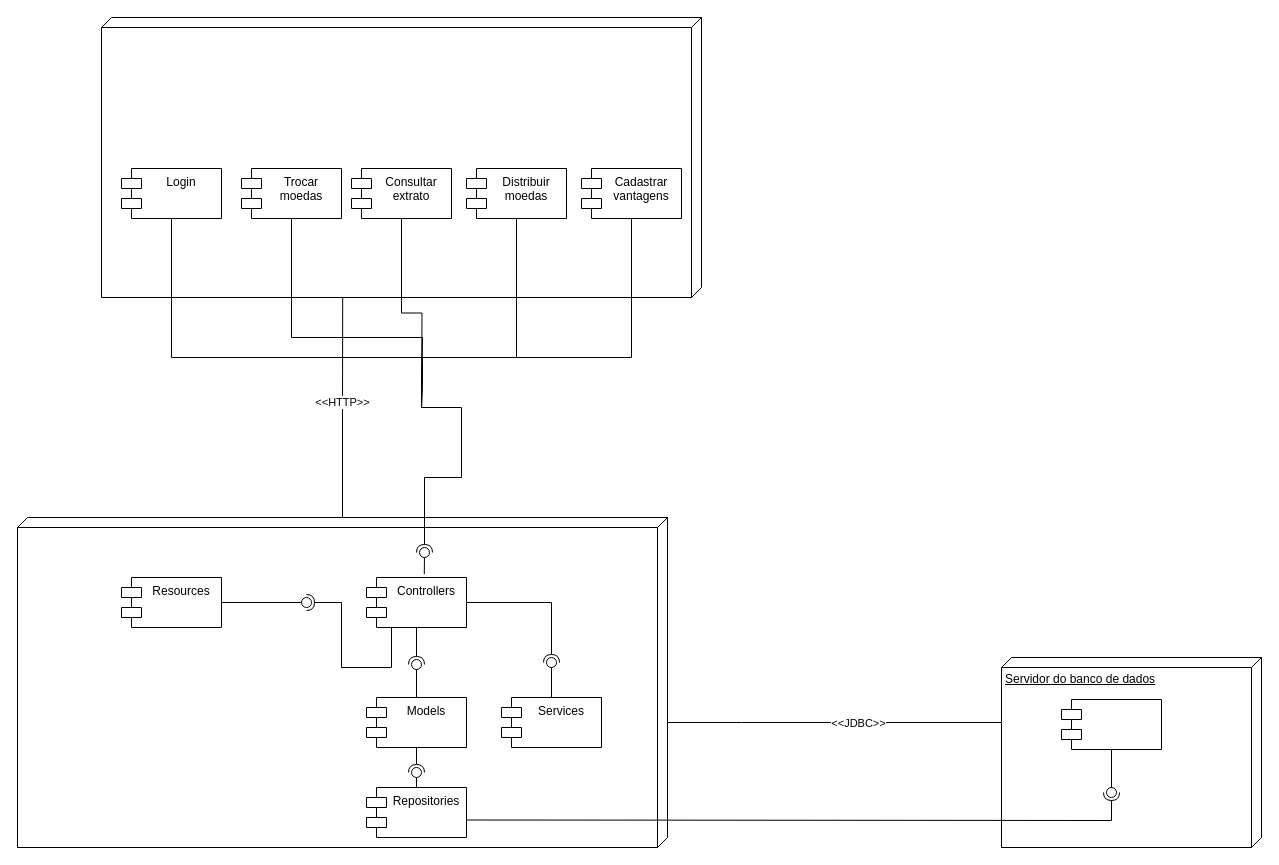
The diagram is 1279 pixels wide and 865 high, and some of its shapes have lost their labels. The box of each missing label's shape, as (x1, y1, x2, y2) in pixels:
MySQL: (1060, 698, 1162, 750)
Servidor de aplicação: (16, 516, 668, 848)
Usuário:browser: (100, 16, 702, 298)
